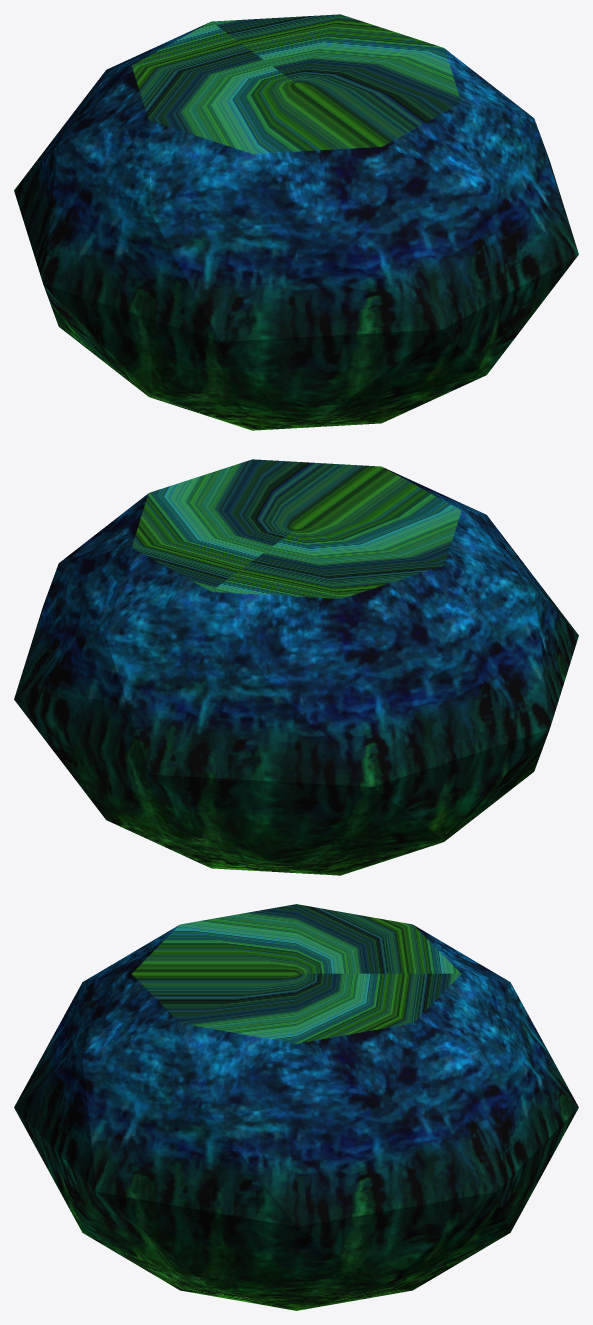
The picture shows the model from 3 angles, top to bottom: view 1: azimuth 30°, elevation 25°; view 2: azimuth 150°, elevation 25°; view 3: azimuth 270°, elevation 25°; orthographic projection. The views are drawn at different scales.
Visible parts, largest first — view 1: world_root; view 2: world_root; view 3: world_root.
Boxes of the visible parts, box(x1,y1,x2,y2) form: world_root: box(14, 14, 578, 430); world_root: box(14, 459, 578, 875); world_root: box(14, 904, 578, 1310).
Bounding box in the file's own units: 117964 × 61688 × 117964.
Materials: 1 (1 with a texture image).
